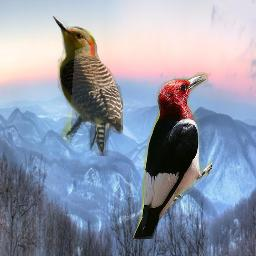Woodpecker: (130, 72, 212, 239), (52, 16, 123, 156)
